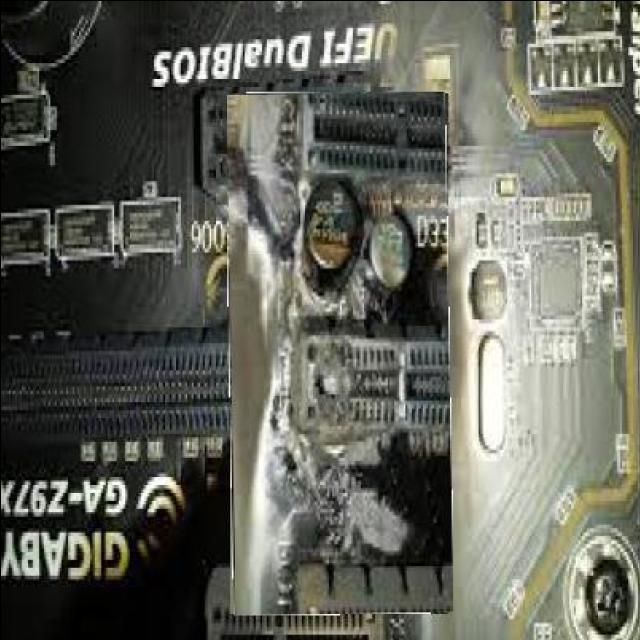Burn: (225, 90, 450, 614)
